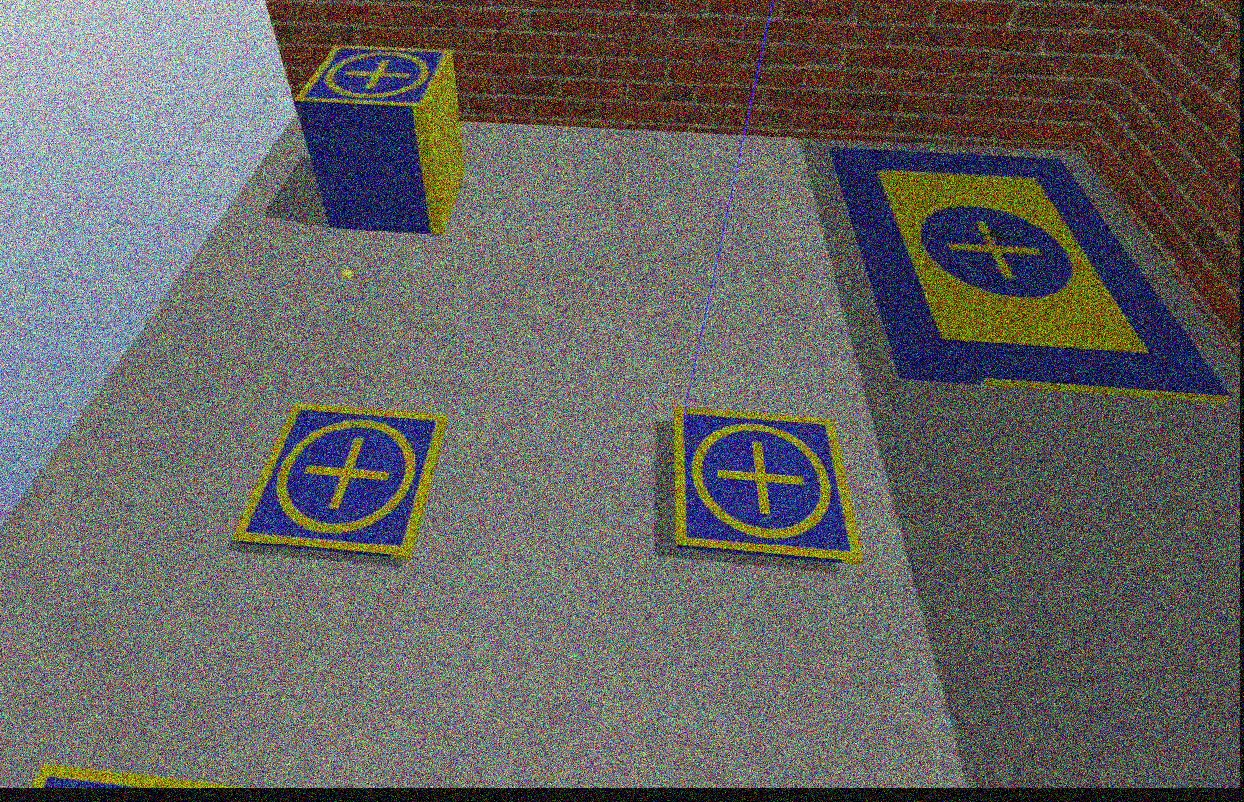large_base: (832, 149, 1232, 402)
small_base: (234, 408, 449, 558), (671, 411, 864, 567), (294, 38, 454, 120)
